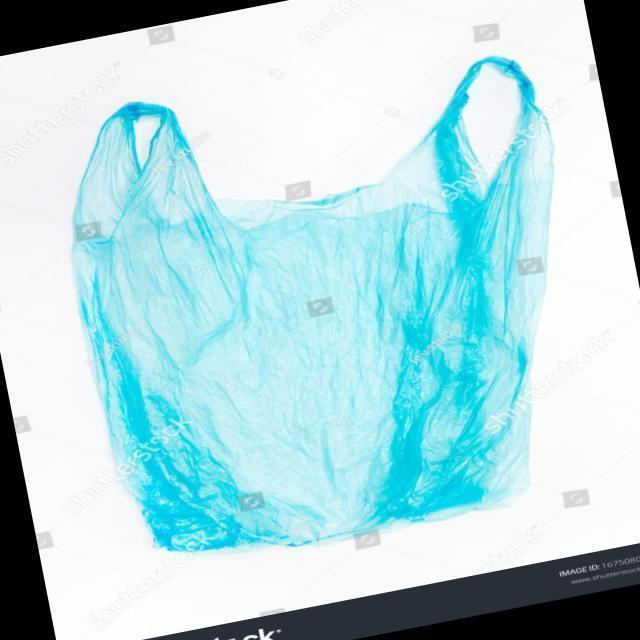Plastic_Bag: (43, 17, 612, 585)
